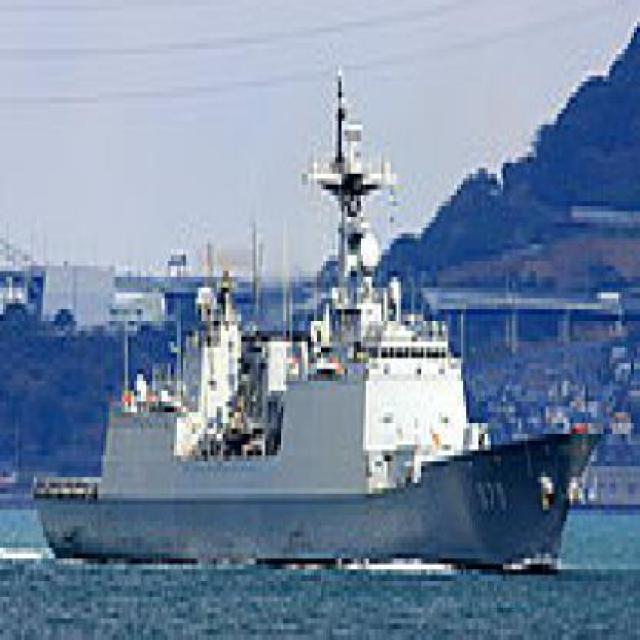warship2: (25, 77, 583, 577)
